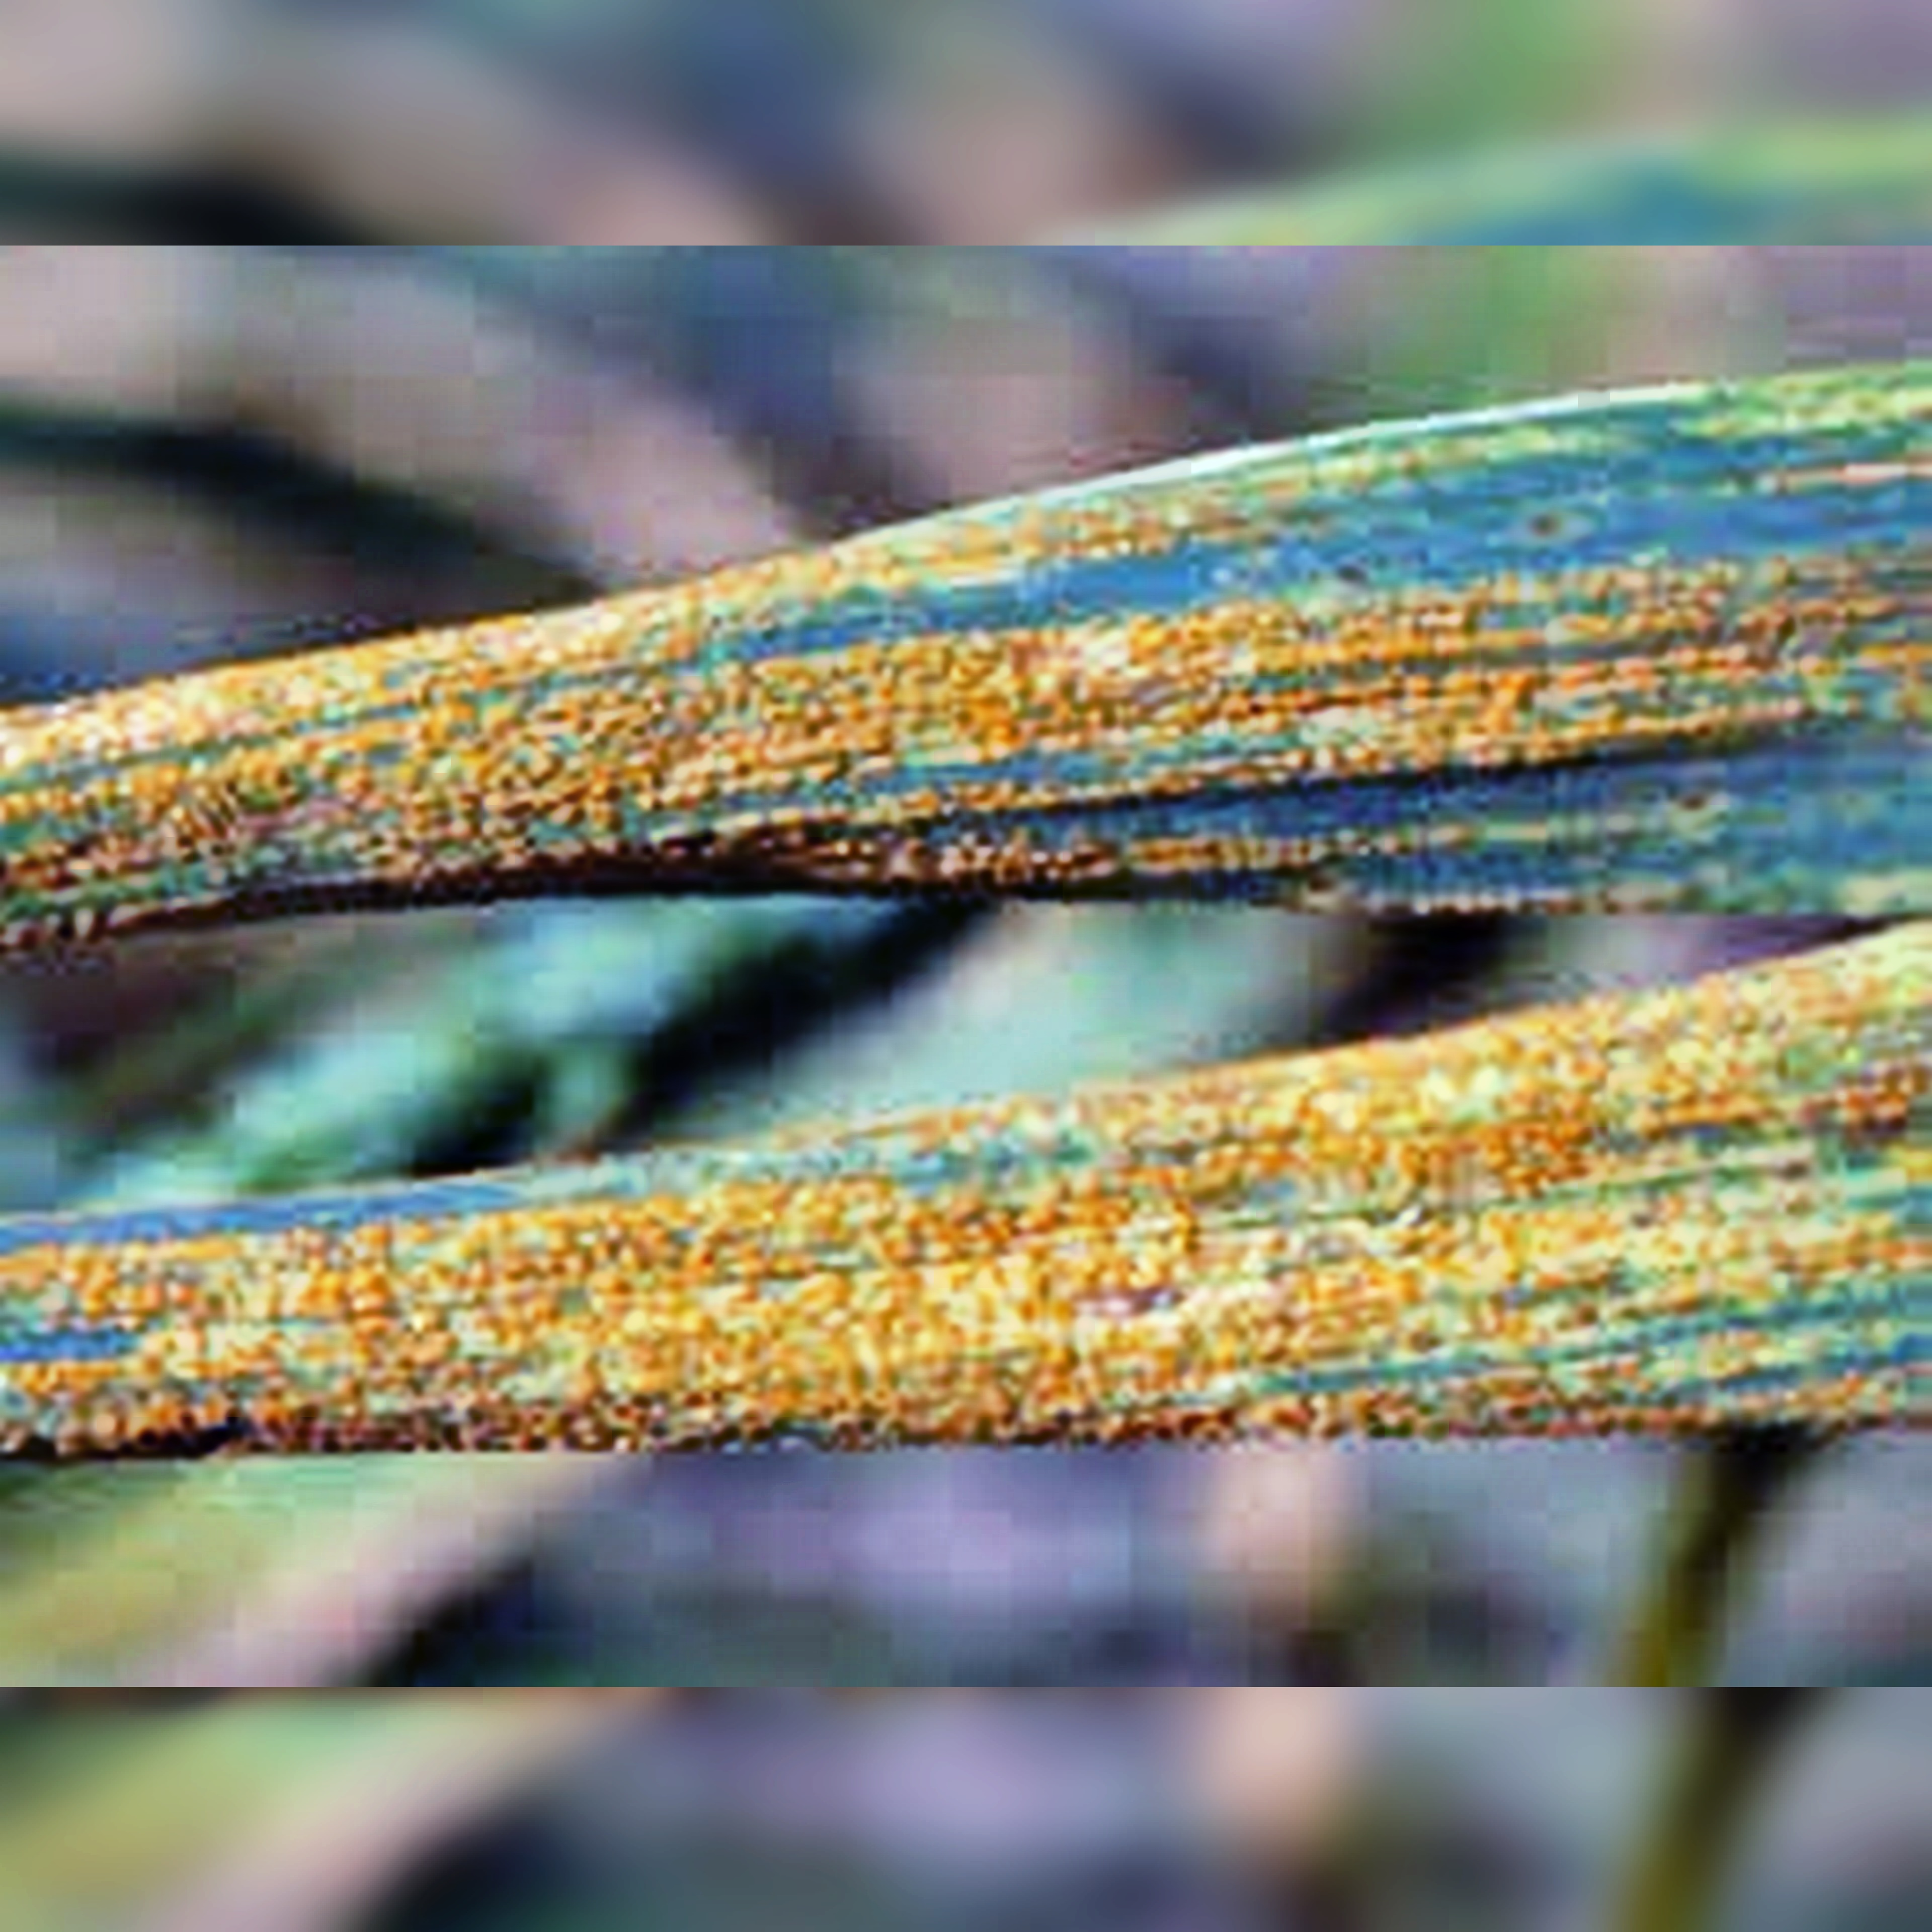Leaf Rust: (110, 412, 1723, 931), (57, 1005, 1798, 1477)
